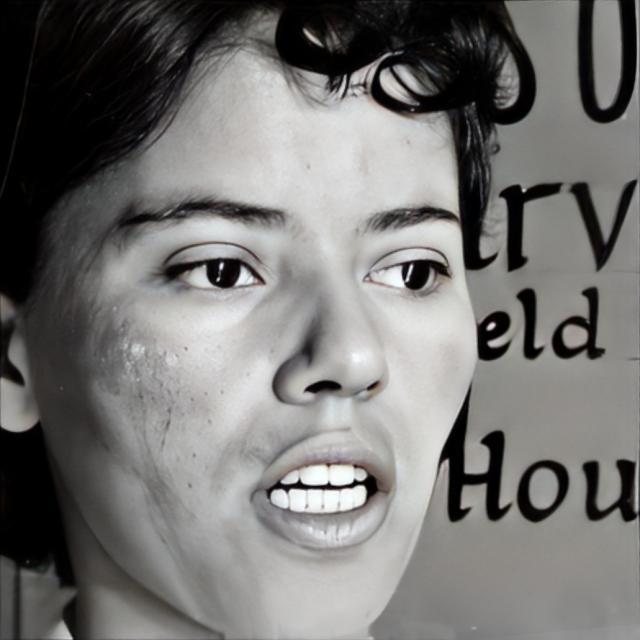surprise: (32, 0, 480, 640)
